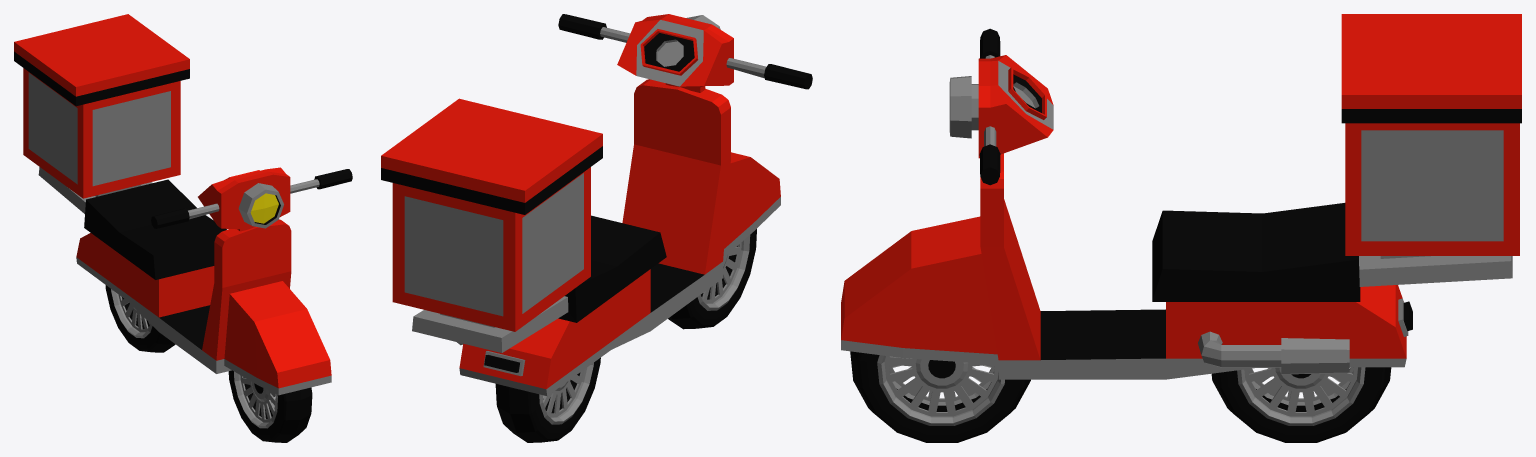
Rendered from motor.fbx.
The picture shows the model from 3 angles, left to right: view 1: azimuth 30°, elevation 25°; view 2: azimuth 150°, elevation 25°; view 3: azimuth 270°, elevation 25°; orthographic projection. The views are drawn at different scales.
Visible parts, largest first — view 1: body, Kapak.001, Gidon.001, t1, t1.001; view 2: body, Kapak.001, Gidon.001, t1.001, t1; view 3: body, Kapak.001, t1, t1.001, Gidon.001.
Part boxes in pixels (box(x1,y1,x2,y2)): body: box(23, 68, 331, 395); Kapak.001: box(14, 14, 189, 106); Gidon.001: box(151, 167, 352, 231); t1: box(228, 370, 312, 442); t1.001: box(105, 285, 175, 352); body: box(392, 79, 780, 395); Kapak.001: box(381, 98, 602, 214); Gidon.001: box(558, 14, 812, 92); t1.001: box(495, 357, 600, 442); t1: box(668, 229, 756, 329); body: box(841, 123, 1519, 379); Kapak.001: box(1341, 14, 1521, 123); t1: box(850, 351, 1030, 442); t1.001: box(1211, 367, 1391, 442); Gidon.001: box(949, 28, 1053, 185).
Bounding box in the file's own units: 204 × 264 × 423.
